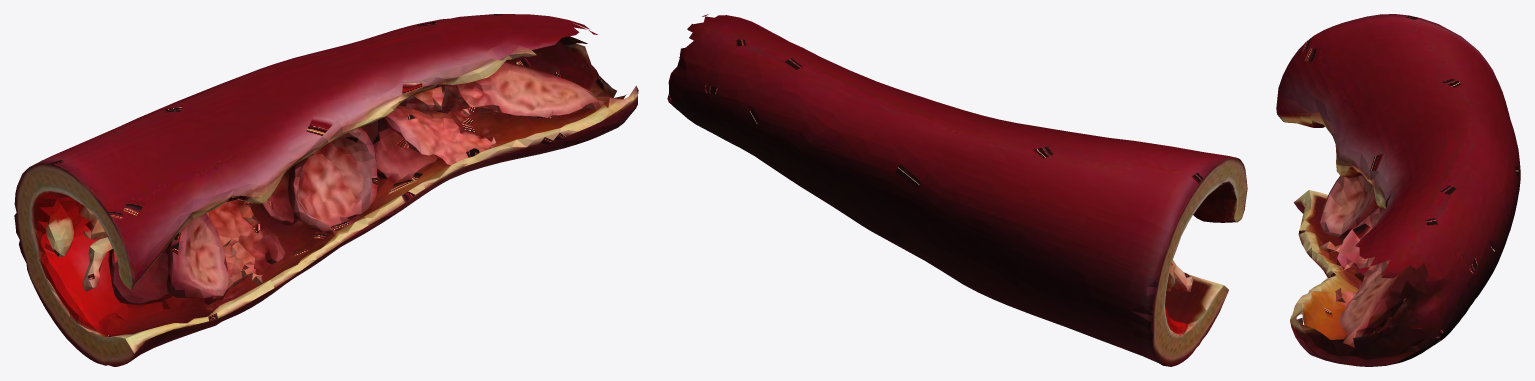
File: artery.glb
3 views of the same model, side by side, from view 1: azimuth 30°, elevation 25°; view 2: azimuth 150°, elevation 25°; view 3: azimuth 270°, elevation 25° (orthographic). The views are drawn at different scales.
Visible parts, largest first — view 1: Artery; view 2: Artery; view 3: Artery.
Boxes of the visible parts, <box> form: Artery: <box>14,14,638,366</box>; Artery: <box>667,14,1247,366</box>; Artery: <box>1276,14,1520,366</box>.
Size of the model in its own units: 0.0104 by 0.0042 by 0.00371.
Materials: 1 (1 with a texture image).
